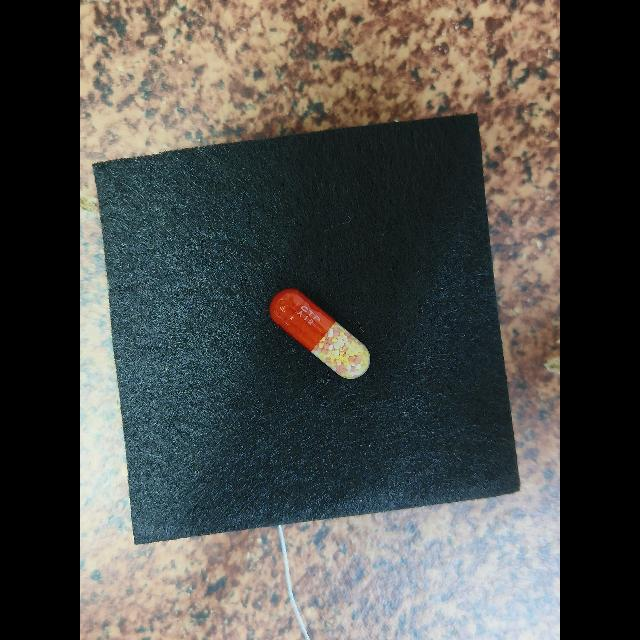Intact Capsule: (269, 289, 370, 379)
